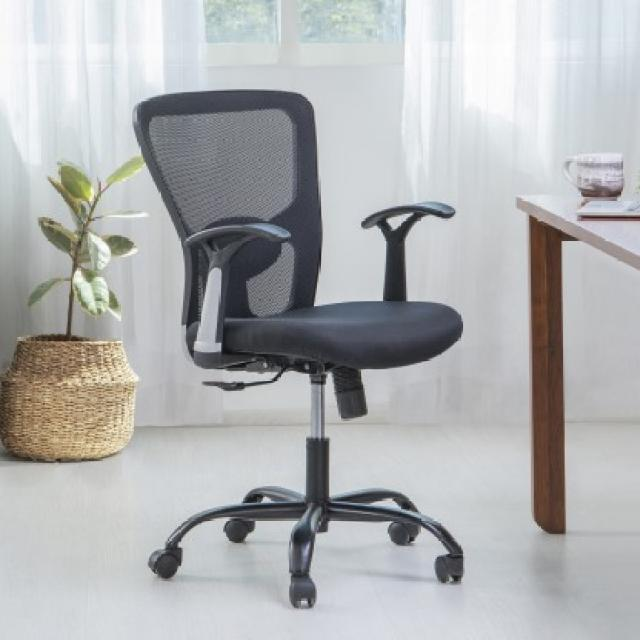chair: (73, 87, 490, 639)
table: (515, 181, 640, 576)
